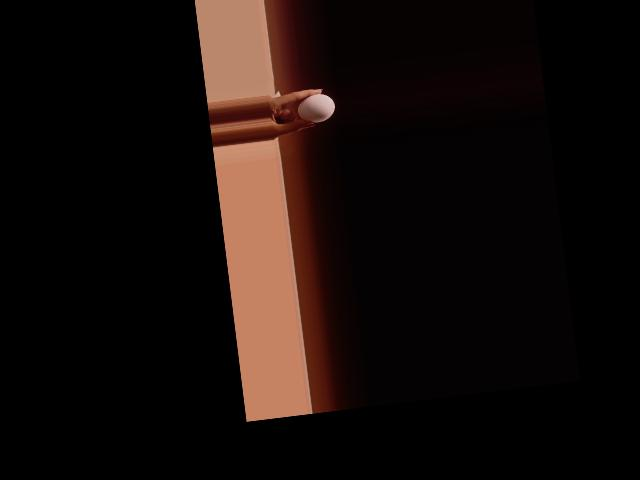egg: (295, 92, 336, 125)
